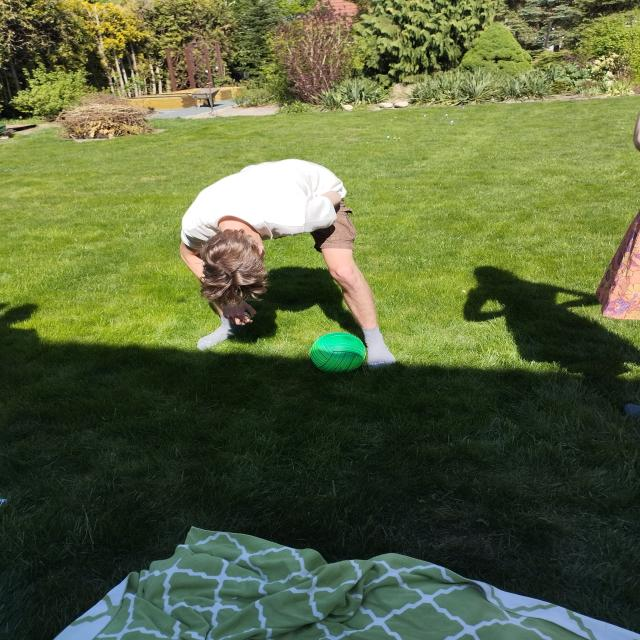zielona: (310, 332, 367, 371)
